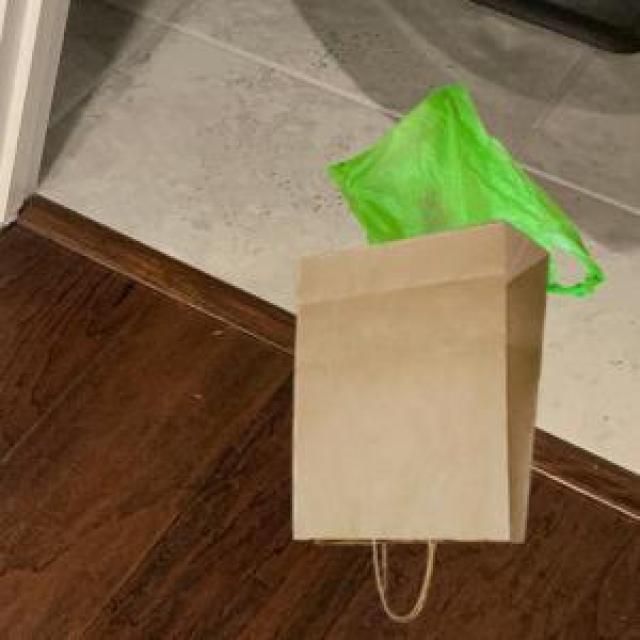paper: (290, 218, 546, 617)
